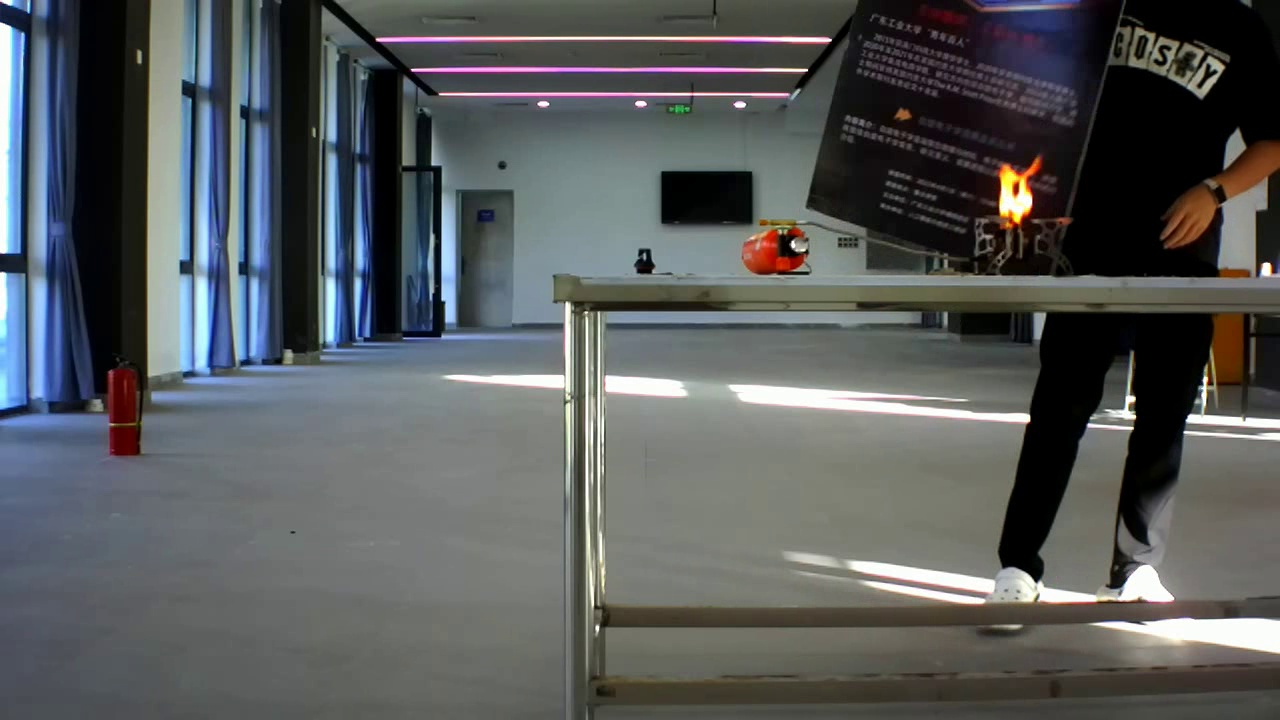Fire: (985, 150, 1046, 226)
